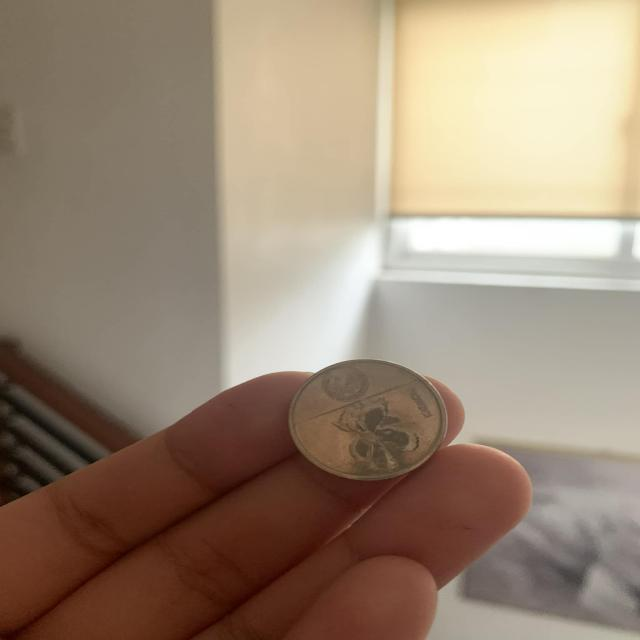25 cents: (273, 352, 464, 488)
